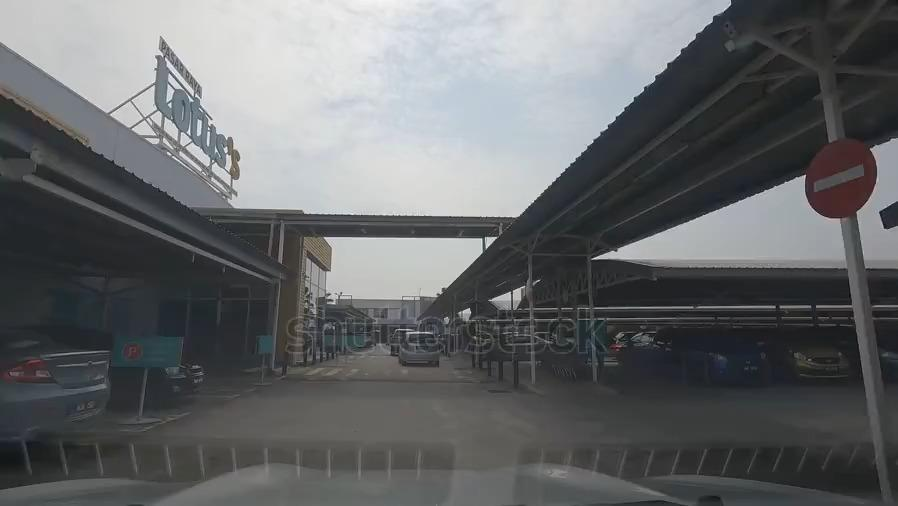car: (0, 323, 111, 443), (69, 326, 207, 407), (677, 325, 771, 389), (768, 325, 849, 383), (399, 331, 440, 366), (389, 324, 411, 355)
pedestrian: (286, 359, 477, 383)
